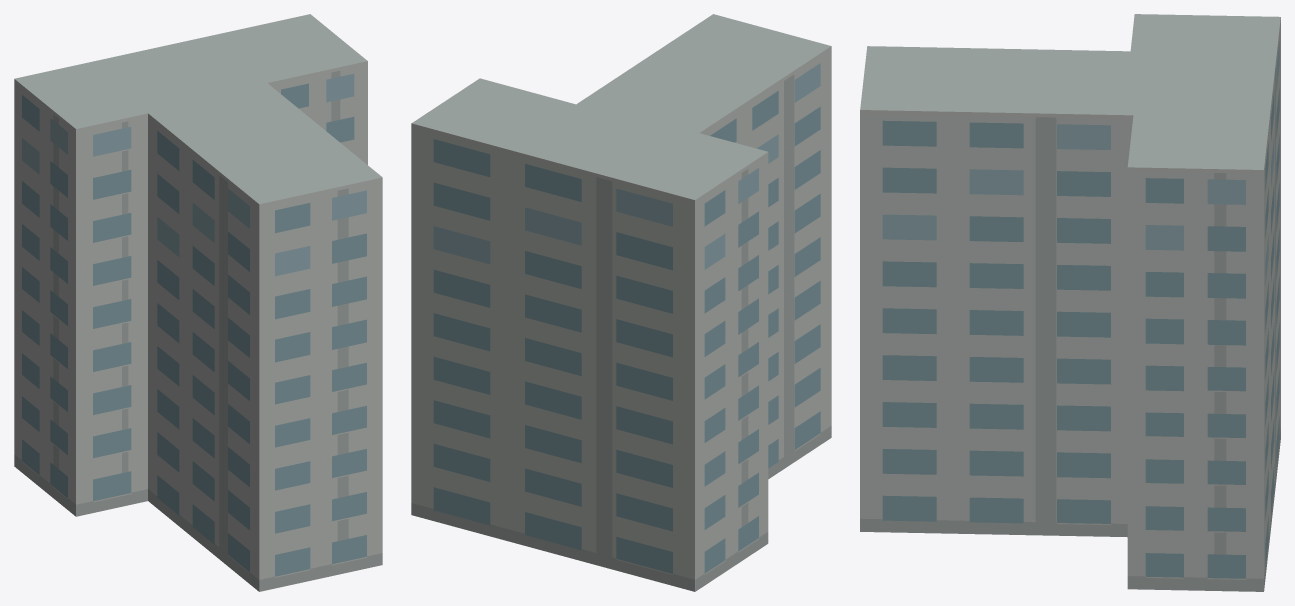
Rendered from residential-827f7d0b-9c08-4508-82dc-ea60e4071d04.glb.
3 renders of one model, left to right at view 1: azimuth 30°, elevation 25°; view 2: azimuth 150°, elevation 25°; view 3: azimuth 270°, elevation 25°, orthographic. The views are drawn at different scales.
Visible parts, largest first — view 1: residential-827f7d0b-9c08-4508-82dc-ea60e4071d04.tmp; view 2: residential-827f7d0b-9c08-4508-82dc-ea60e4071d04.tmp; view 3: residential-827f7d0b-9c08-4508-82dc-ea60e4071d04.tmp.
Part boxes in pixels (<box>): residential-827f7d0b-9c08-4508-82dc-ea60e4071d04.tmp: <box>14,14,382,591</box>; residential-827f7d0b-9c08-4508-82dc-ea60e4071d04.tmp: <box>411,14,831,591</box>; residential-827f7d0b-9c08-4508-82dc-ea60e4071d04.tmp: <box>860,14,1280,591</box>.
Bounding box in the file's own units: 21.42 × 27 × 24.41.
